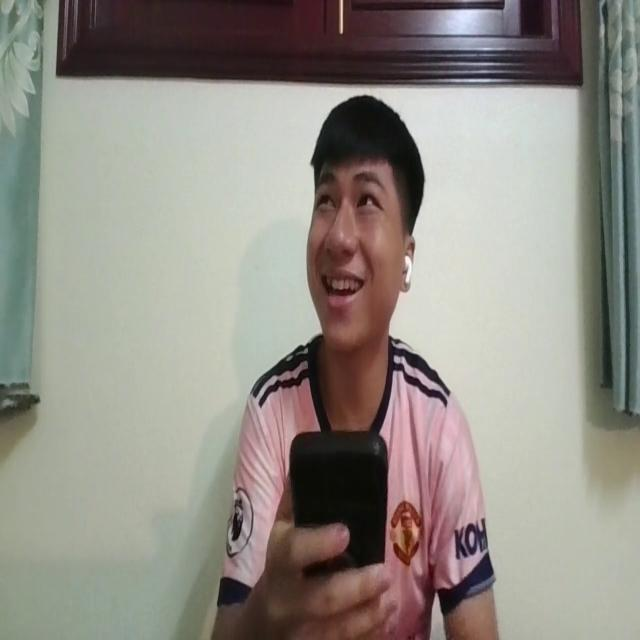phone: (289, 413, 388, 572)
student: (210, 88, 498, 640)
